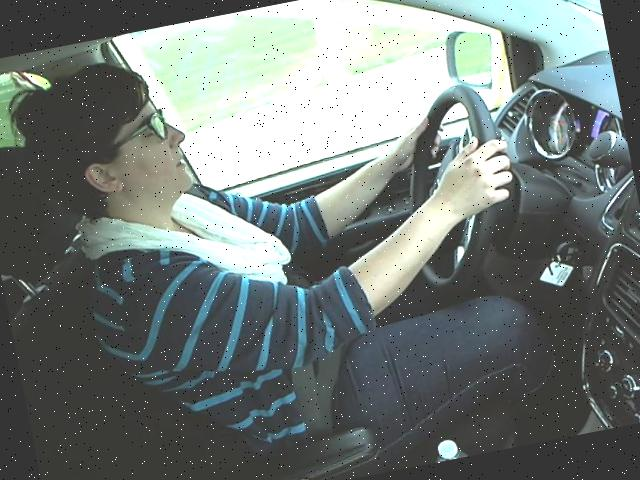c0 - Safe Driving: (2, 0, 549, 415)
